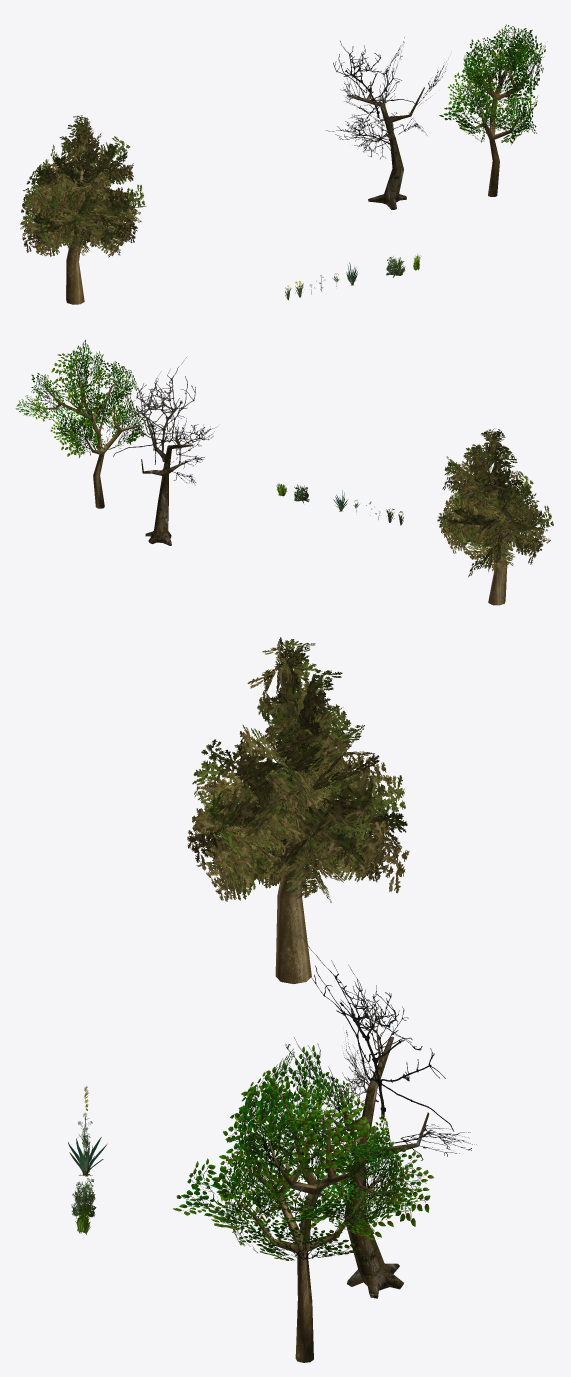
File: flora_lowpoly_pack_01_mesh_2336.glb
3 renders of one model, top to bottom at view 1: azimuth 30°, elevation 25°; view 2: azimuth 150°, elevation 25°; view 3: azimuth 270°, elevation 25°, orthographic. The views are drawn at different scales.
Visible parts, largest first — view 1: tree-stylized-04-green, tree-stylized-01, tree-stylized-02-dry; view 2: tree-stylized-04-green, tree-stylized-01, tree-stylized-02-dry; view 3: tree-stylized-04-green, tree-stylized-01, tree-stylized-02-dry.
Part boxes in pixels (x1,y1,x2,y2): tree-stylized-04-green: (20, 115, 146, 304); tree-stylized-01: (439, 24, 547, 196); tree-stylized-02-dry: (325, 37, 446, 209); tree-stylized-04-green: (437, 428, 553, 605); tree-stylized-01: (15, 339, 146, 508); tree-stylized-02-dry: (113, 357, 217, 545); tree-stylized-04-green: (187, 637, 409, 983); tree-stylized-01: (173, 1045, 433, 1362); tree-stylized-02-dry: (282, 935, 476, 1298).
Size of the model in its own units: 25.78 by 8.69 by 9.7.
16 materials, 16 textured.
